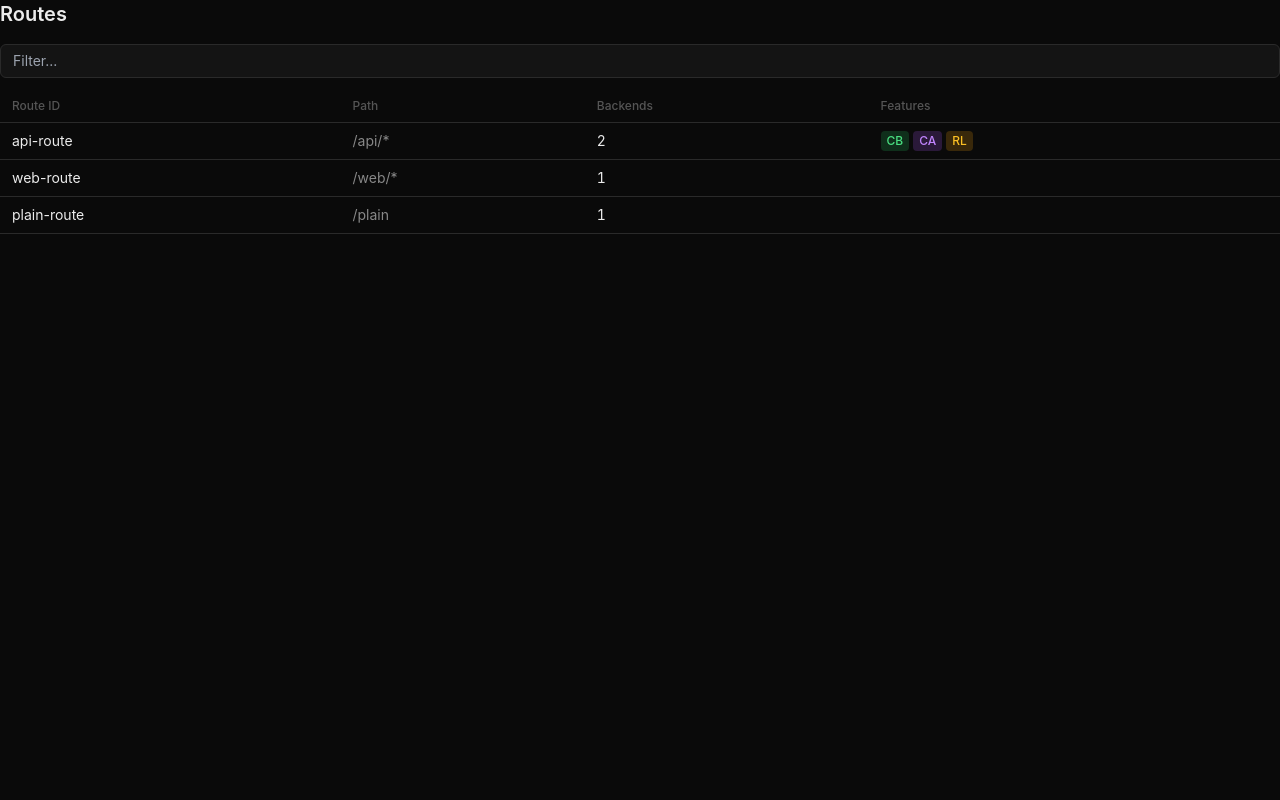
Scenario: RoutesPage › cache purge shows ConfirmModal
Click the text "api-route" at (42, 140), box x1=0 y1=122 x2=340 y2=160
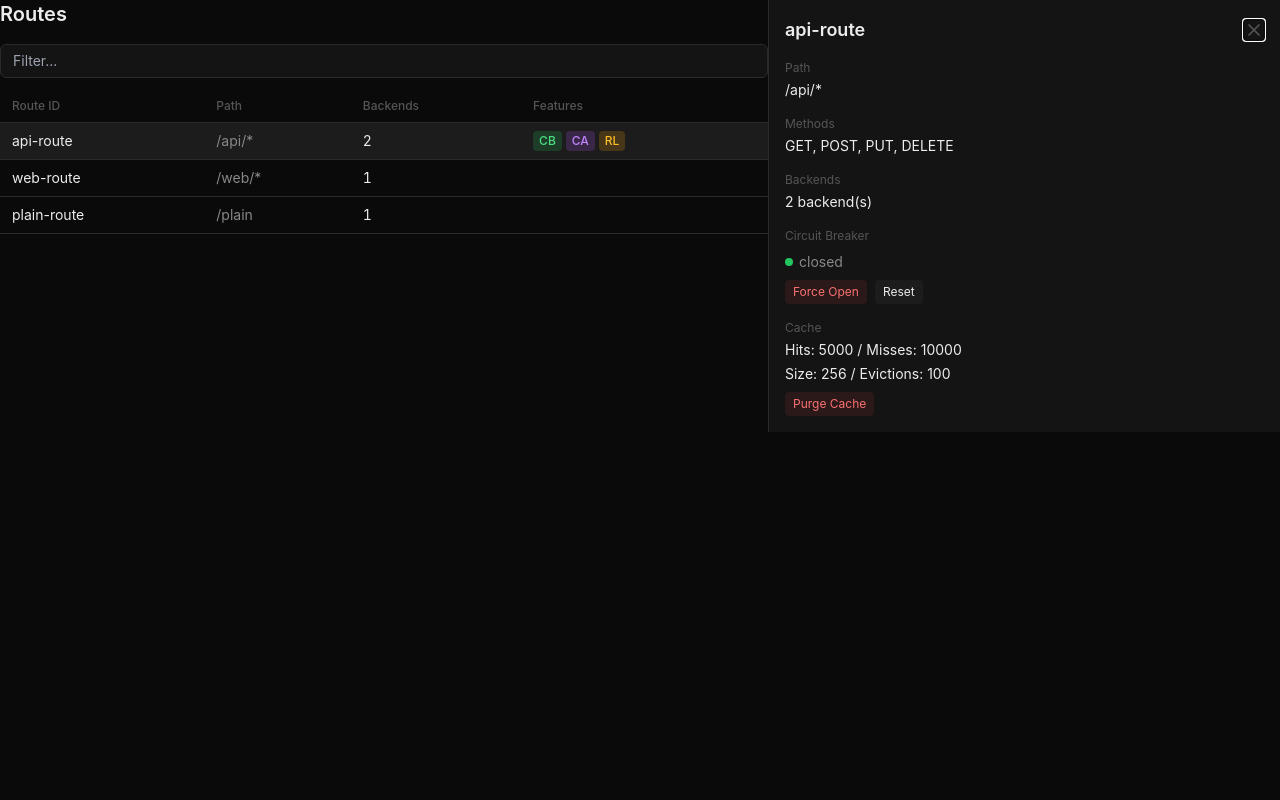
expect the button "Purge Cache" is shown: met
Click the button "Purge Cache" at (830, 404), box x1=785 y1=392 x2=874 y2=416
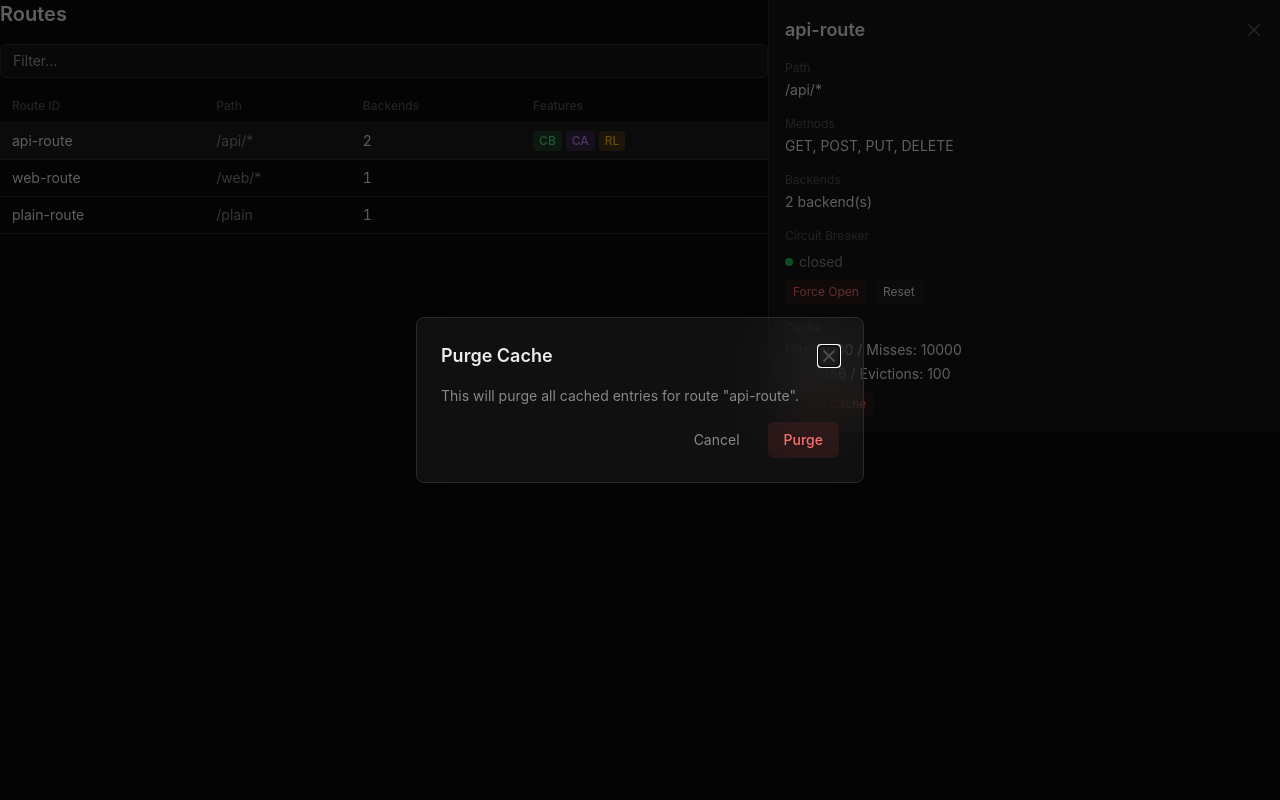
expect the button "Purge Cache" is shown: met, box x1=785 y1=392 x2=874 y2=416
expect the dialog is shown: met, box x1=416 y1=317 x2=864 y2=483
